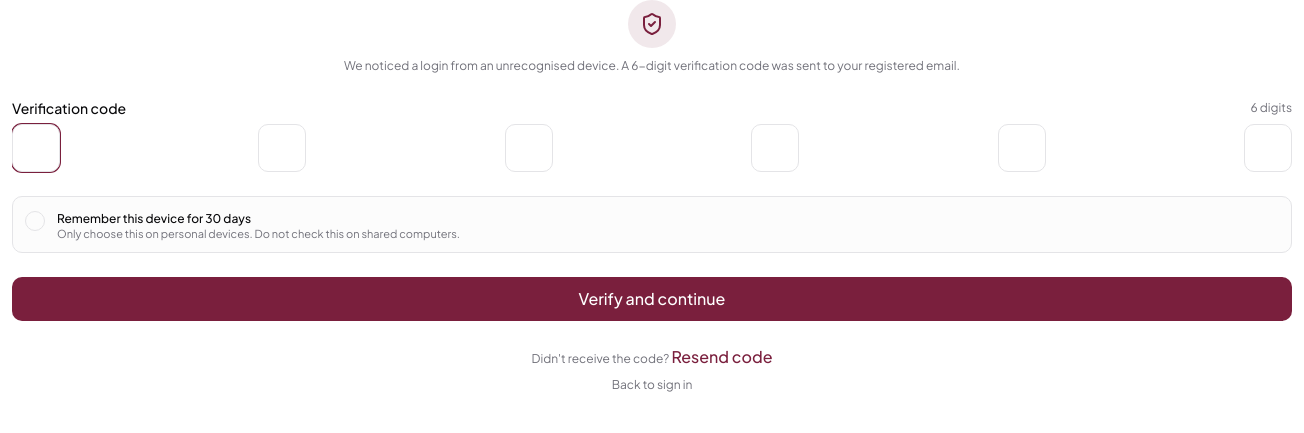
VerifyDeviceForm (F10) › displays safe server error message when code is invalid or expired (422)
Type keys "000000"
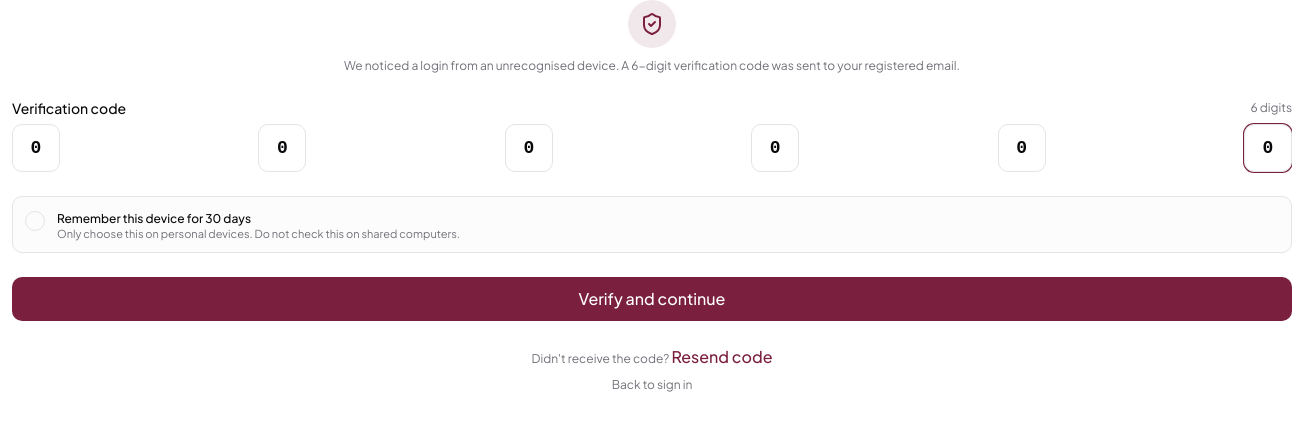
Click the button "Verify and continue" at (652, 299), box [12, 277, 1292, 321]
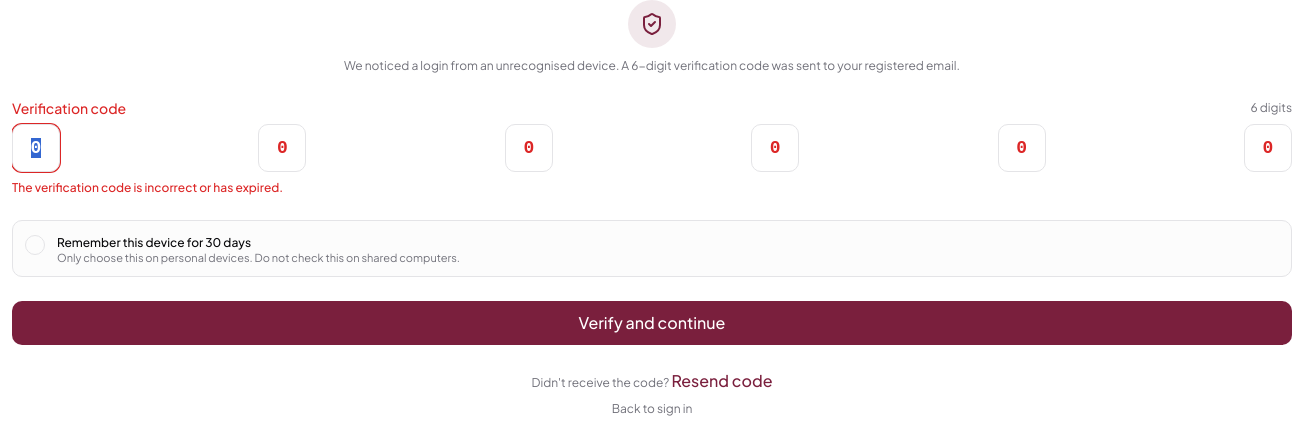
Now the text "The verification code is incorrect or has expired." is shown, box [12, 180, 283, 194]
